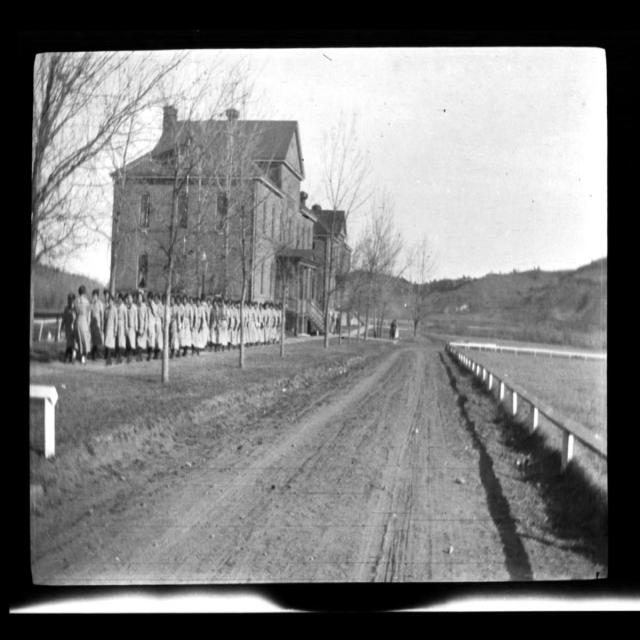body: (70, 283, 92, 365), (58, 290, 78, 364), (101, 294, 118, 368), (88, 286, 103, 364), (132, 288, 147, 359), (143, 291, 156, 363), (206, 296, 222, 353), (125, 292, 138, 362), (150, 291, 163, 360), (216, 295, 231, 353), (159, 292, 172, 358), (174, 292, 187, 358), (181, 293, 194, 359), (168, 295, 181, 357), (117, 292, 128, 364), (195, 295, 207, 355), (235, 298, 248, 348), (200, 292, 210, 349), (189, 295, 198, 353), (229, 299, 238, 350), (248, 300, 257, 346), (253, 300, 262, 344), (269, 301, 278, 344), (262, 298, 270, 346), (278, 301, 286, 344), (274, 302, 282, 344), (388, 316, 399, 342), (330, 312, 340, 335), (102, 288, 111, 312), (123, 292, 129, 304), (114, 290, 120, 302), (223, 298, 230, 308), (206, 298, 212, 306)
